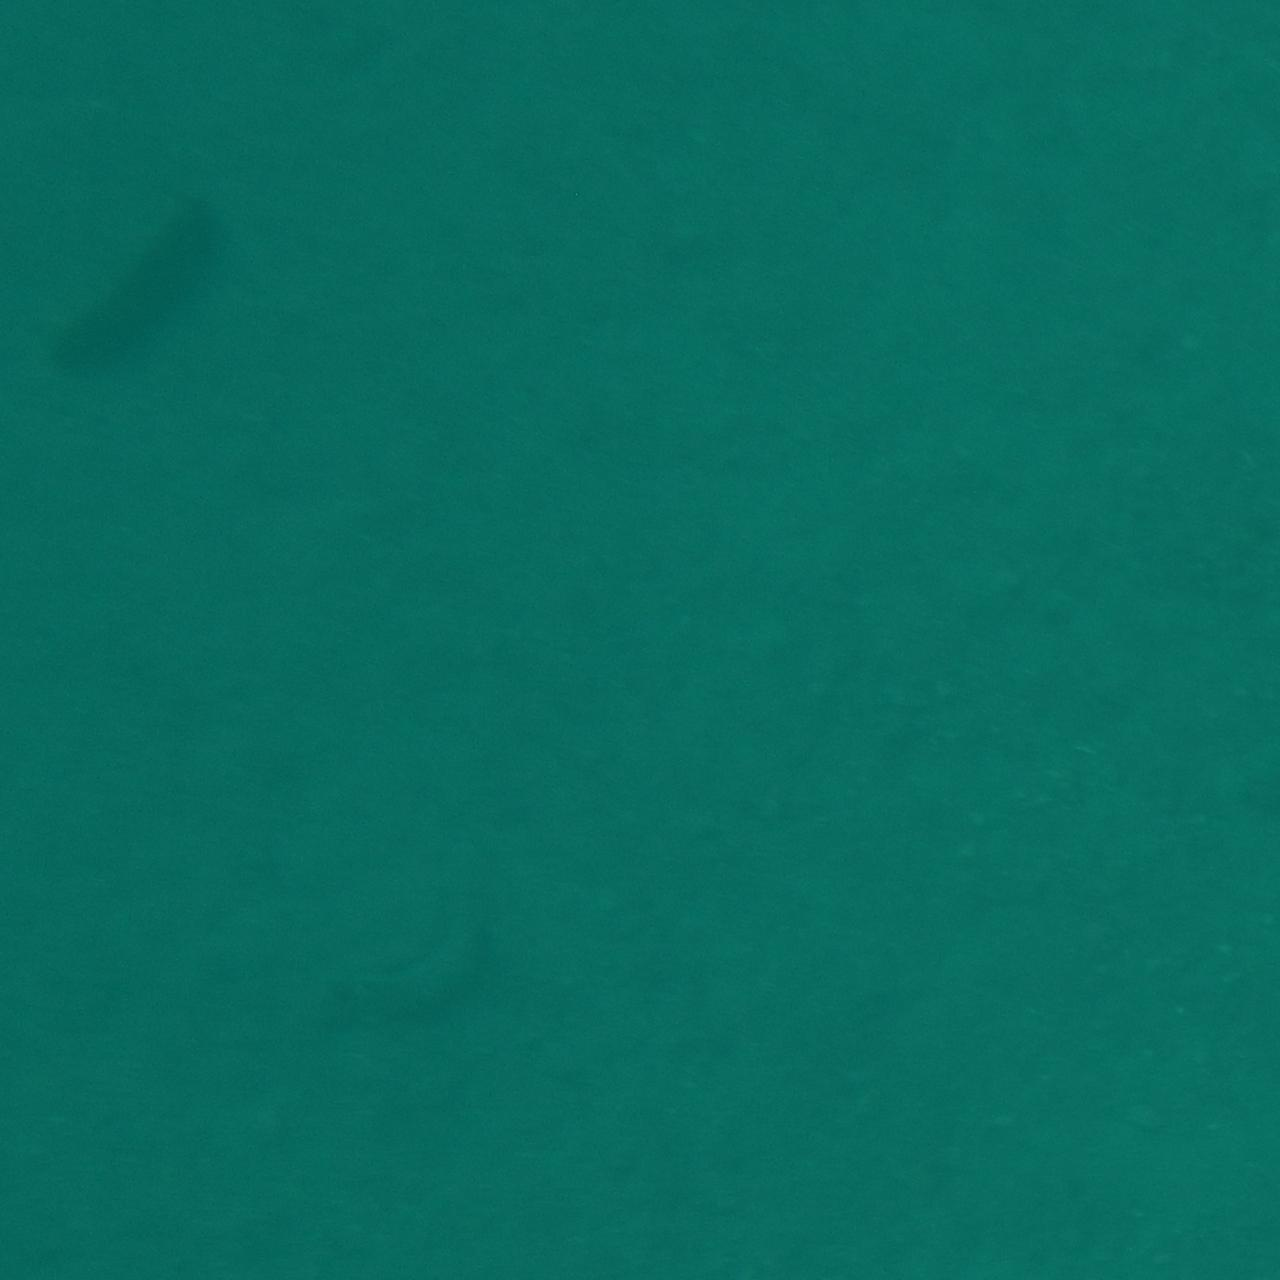Holothuria tubulosa: (45, 186, 247, 400), (300, 927, 512, 1049)
